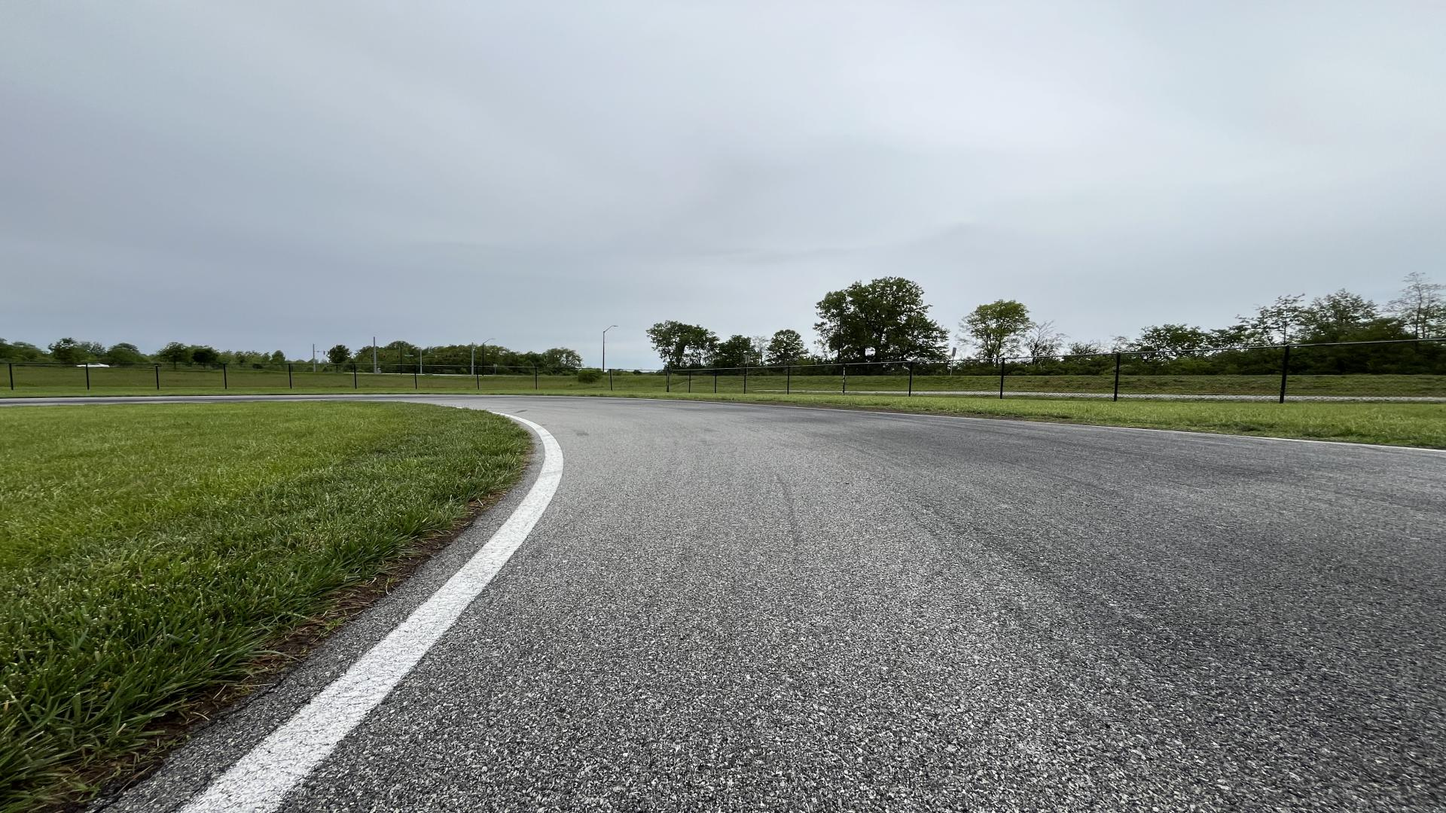white-line: (169, 410, 568, 812), (578, 397, 1445, 452)
